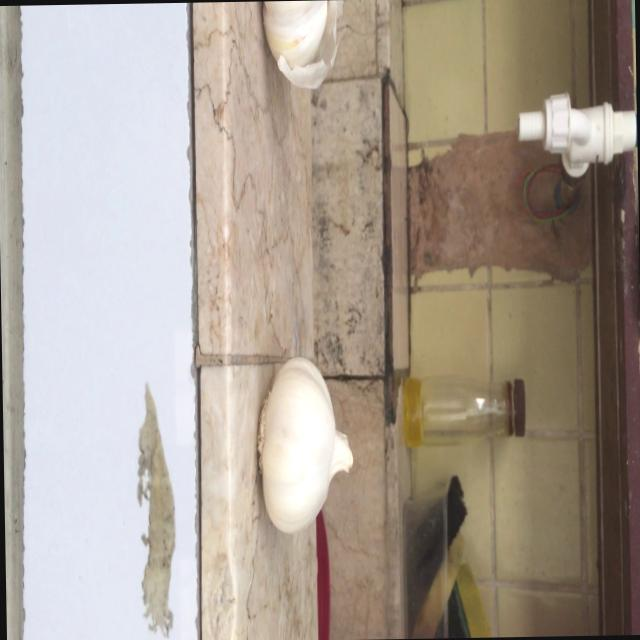garlic: (251, 353, 354, 538)
